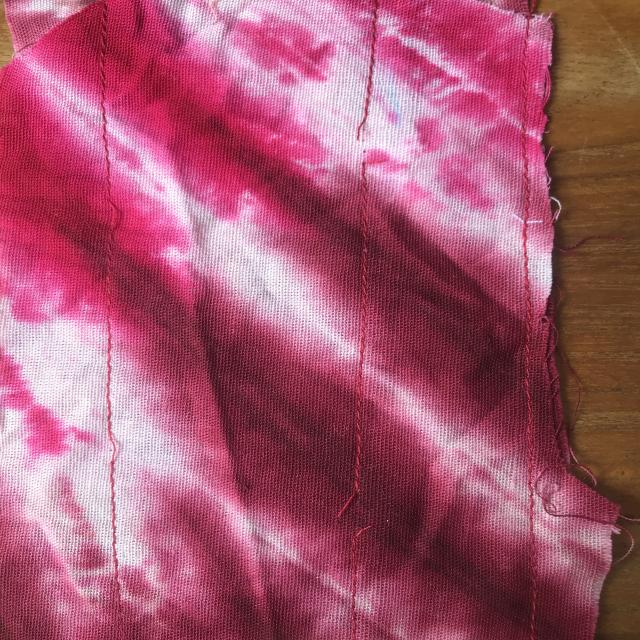broken: (312, 463, 408, 550), (335, 106, 401, 184)
skip: (94, 410, 158, 488)
